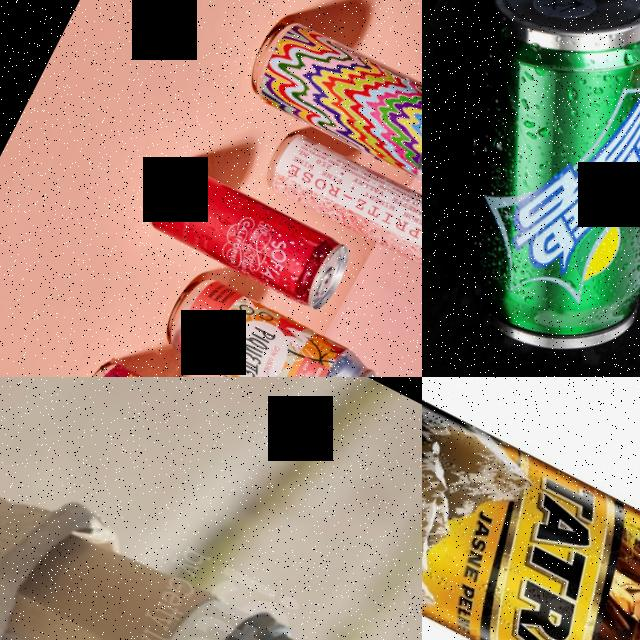can: (422, 0, 640, 377), (422, 377, 640, 640), (134, 154, 357, 316), (236, 8, 422, 202), (256, 125, 422, 287), (153, 267, 384, 377)
cup: (0, 509, 328, 640)
